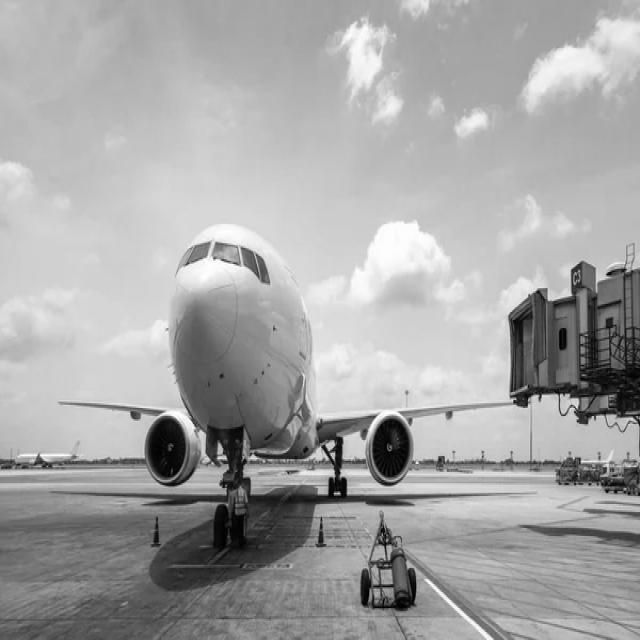Aircraft: (56, 220, 518, 544)
